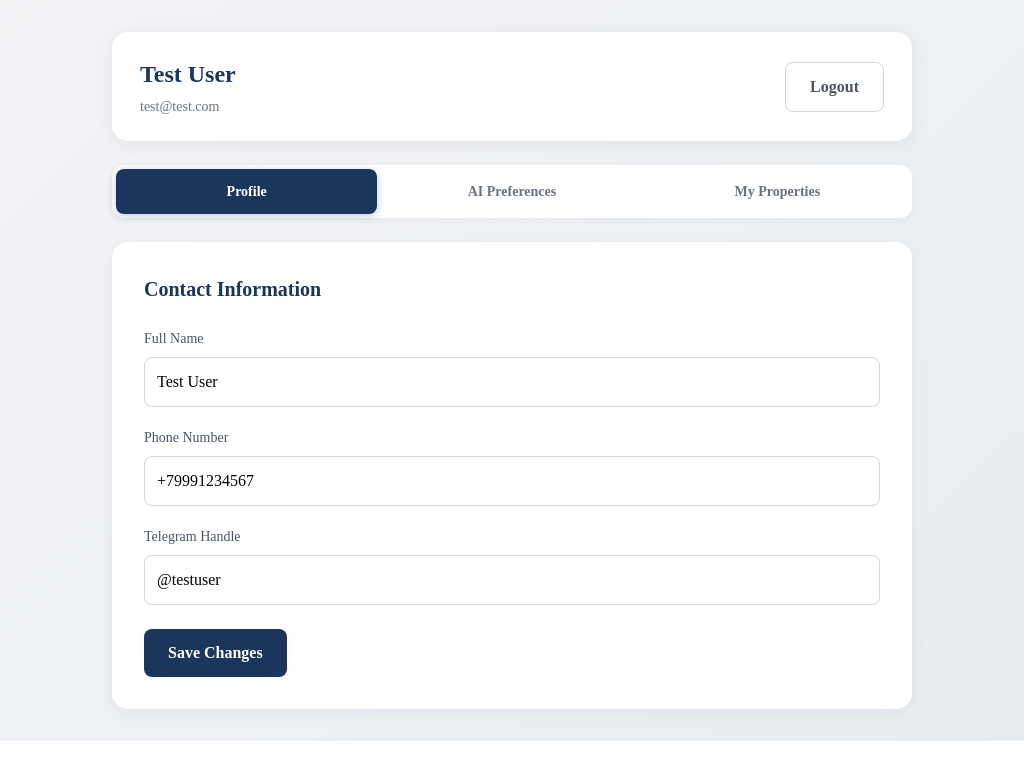
Test: Profile Page › Tabs › switches to AI Preferences tab and shows Edit button
The width and height of the screenshot is (1024, 768).
Click the button "AI Preferences" at (512, 192), box [381,169,643,214]
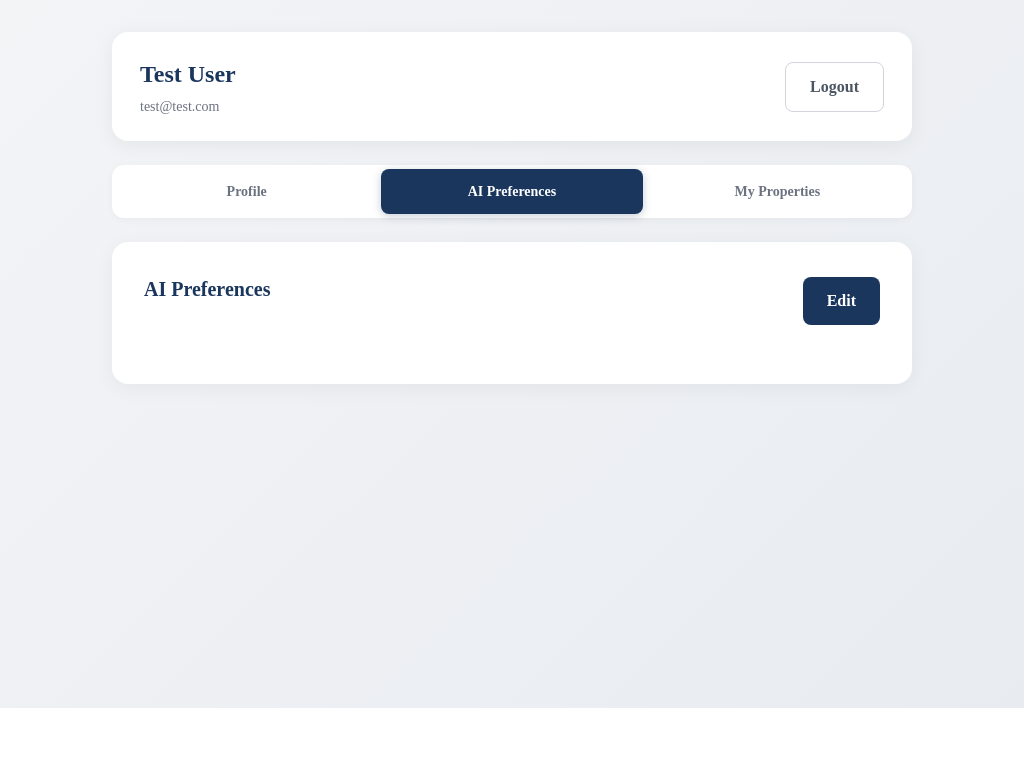
Expected: the button "Edit" is shown, [803,277,880,325]
